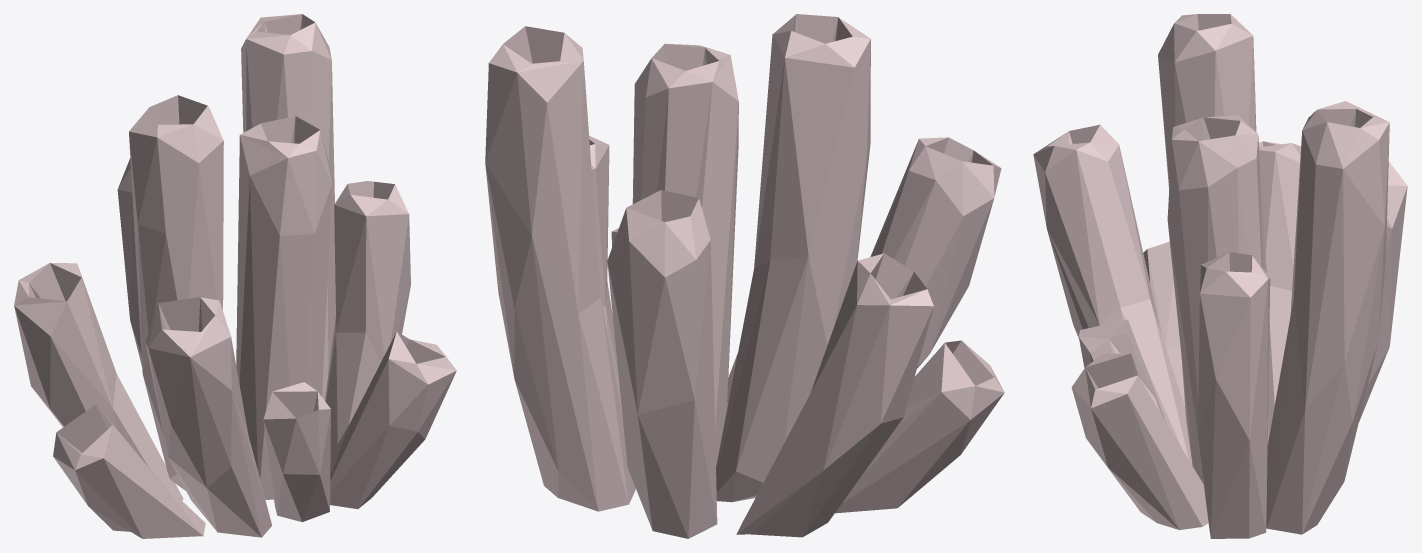
File: Coral_01.fbx
3 renders of one model, left to right at view 1: azimuth 30°, elevation 25°; view 2: azimuth 150°, elevation 25°; view 3: azimuth 270°, elevation 25°, orthographic. The views are drawn at different scales.
Parts seen in each view (by area): view 1: Coral_01; view 2: Coral_01; view 3: Coral_01.
Boxes of the visible parts, <box> form: Coral_01: <box>14,14,456,538</box>; Coral_01: <box>485,14,1004,538</box>; Coral_01: <box>1033,14,1407,538</box>.
Size of the model in its own units: 436 by 467 by 376.
